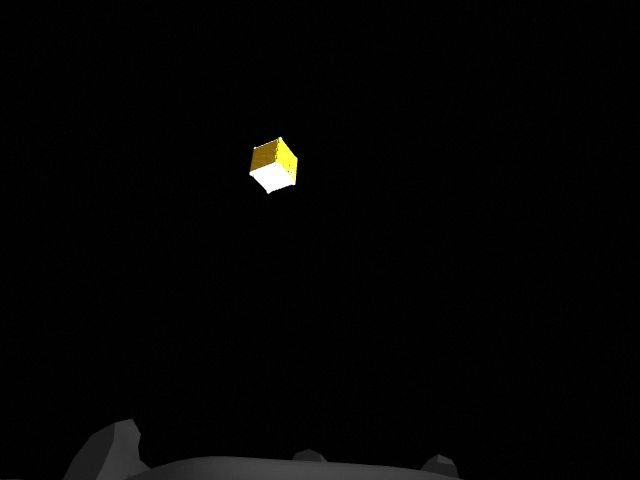cubesat: (247, 133, 303, 199)
